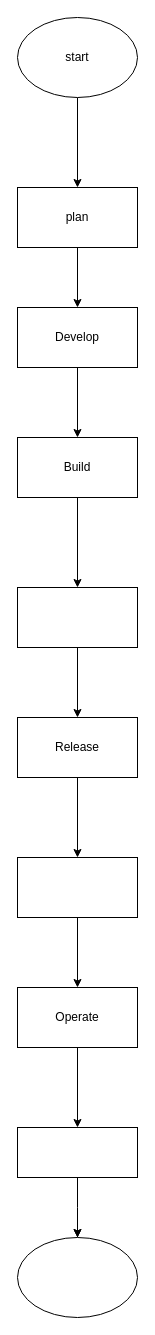
Image size: 155x1335. Some labels were removed from this diagram. Here are the shapes that lost their labels. From the top down, the centre of each, then its label:
At (x=77, y=617): "Test".
At (x=77, y=887): "Deploy".
At (x=77, y=1152): "Monitor".
